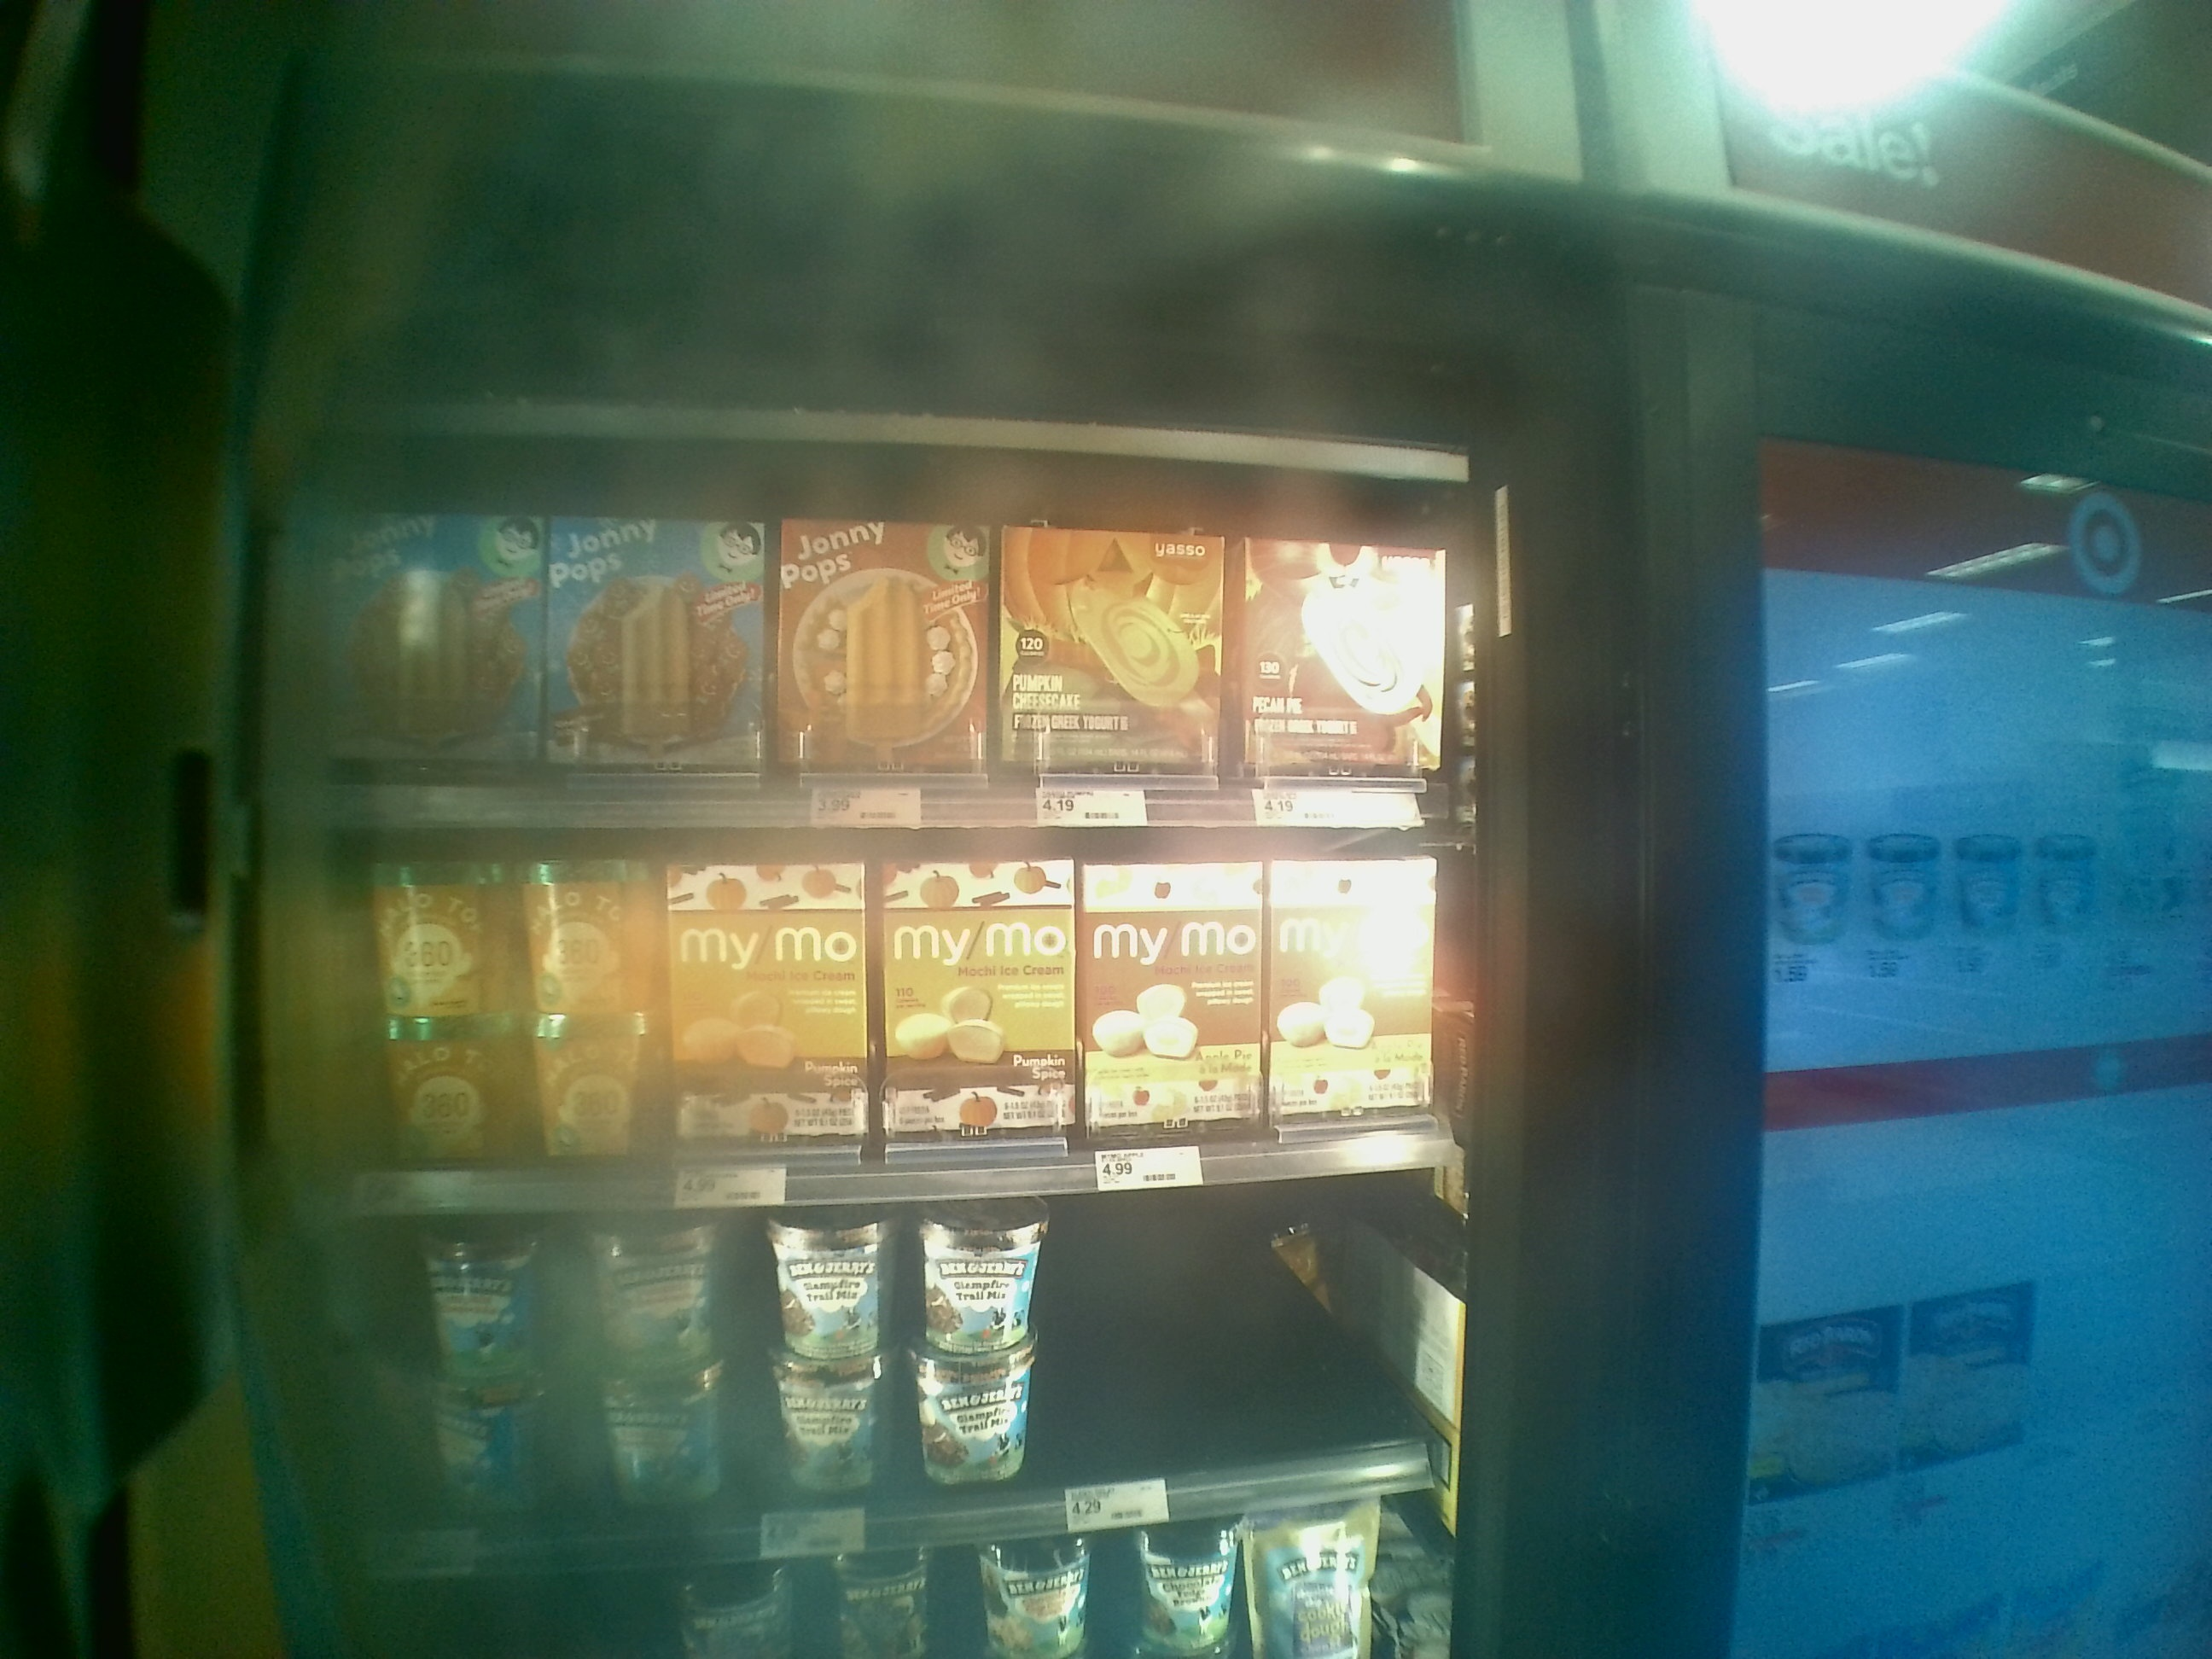shelf: (296, 791, 1456, 1180), (260, 432, 1468, 802), (280, 1180, 1442, 1481)
